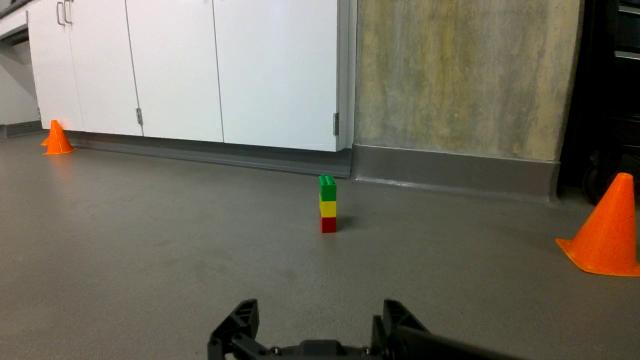lego: (316, 169, 342, 240)
